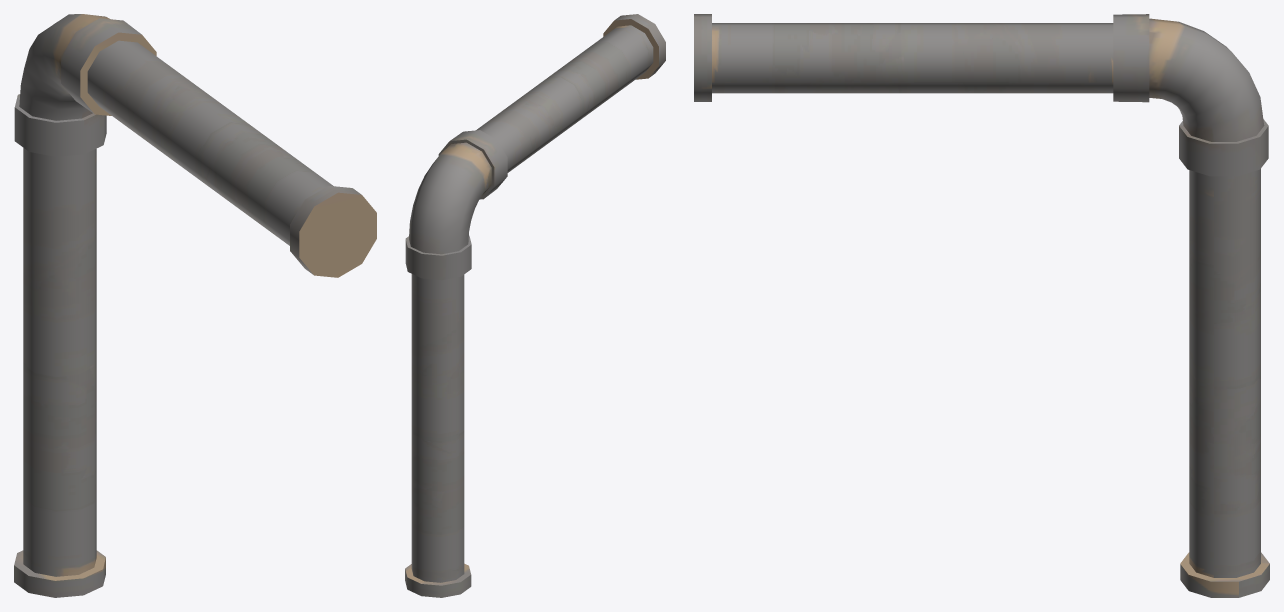
The model's file is props_mining_ceiling_pipe04_thick.glb.
The picture shows the model from 3 angles, left to right: view 1: azimuth 30°, elevation 25°; view 2: azimuth 150°, elevation 25°; view 3: azimuth 270°, elevation 25°; orthographic projection. The views are drawn at different scales.
Parts seen in each view (by area): view 1: models/props_mining/ceiling_pipe04_thick; view 2: models/props_mining/ceiling_pipe04_thick; view 3: models/props_mining/ceiling_pipe04_thick.
Boxes of the visible parts, bbox=[...] form: models/props_mining/ceiling_pipe04_thick: bbox=[14, 14, 376, 597]; models/props_mining/ceiling_pipe04_thick: bbox=[405, 14, 665, 597]; models/props_mining/ceiling_pipe04_thick: bbox=[694, 14, 1269, 597].
Bounding box in the file's own units: 9.51 × 69.12 × 64.13.
Materials: 1 (1 with a texture image).
